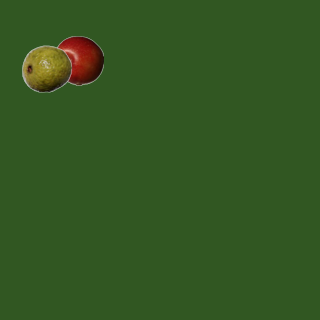Apple Braeburn: (53, 35, 103, 85)
Guava: (21, 43, 71, 93)
